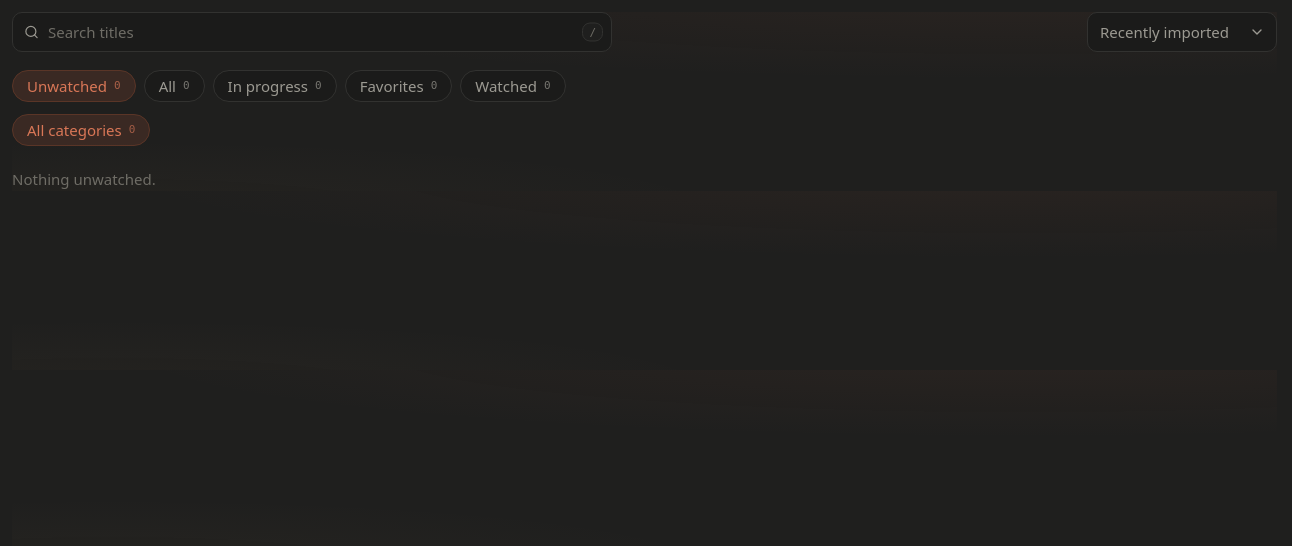
Test: Library category chips › offers a Watched chip and lists watched videos in the grid
Note: The default chip is Unwatched, so select Watched to see watched videos.
Click the button "Watched 0" at (513, 86), box top-left (460, 70), bottom-right (566, 102)
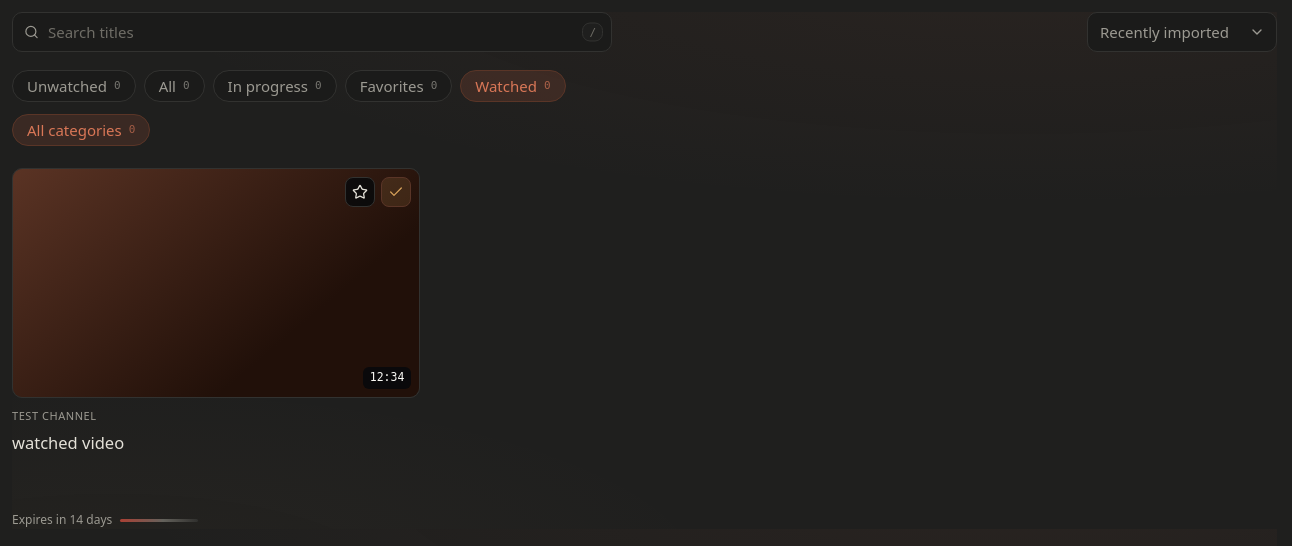
Expected: the button "watched video" is shown, top-left (12, 431), bottom-right (124, 454)
Expected: the element showing "12:34 Test Channel watched video Expires in 14 days" is shown, top-left (12, 168), bottom-right (420, 530)
